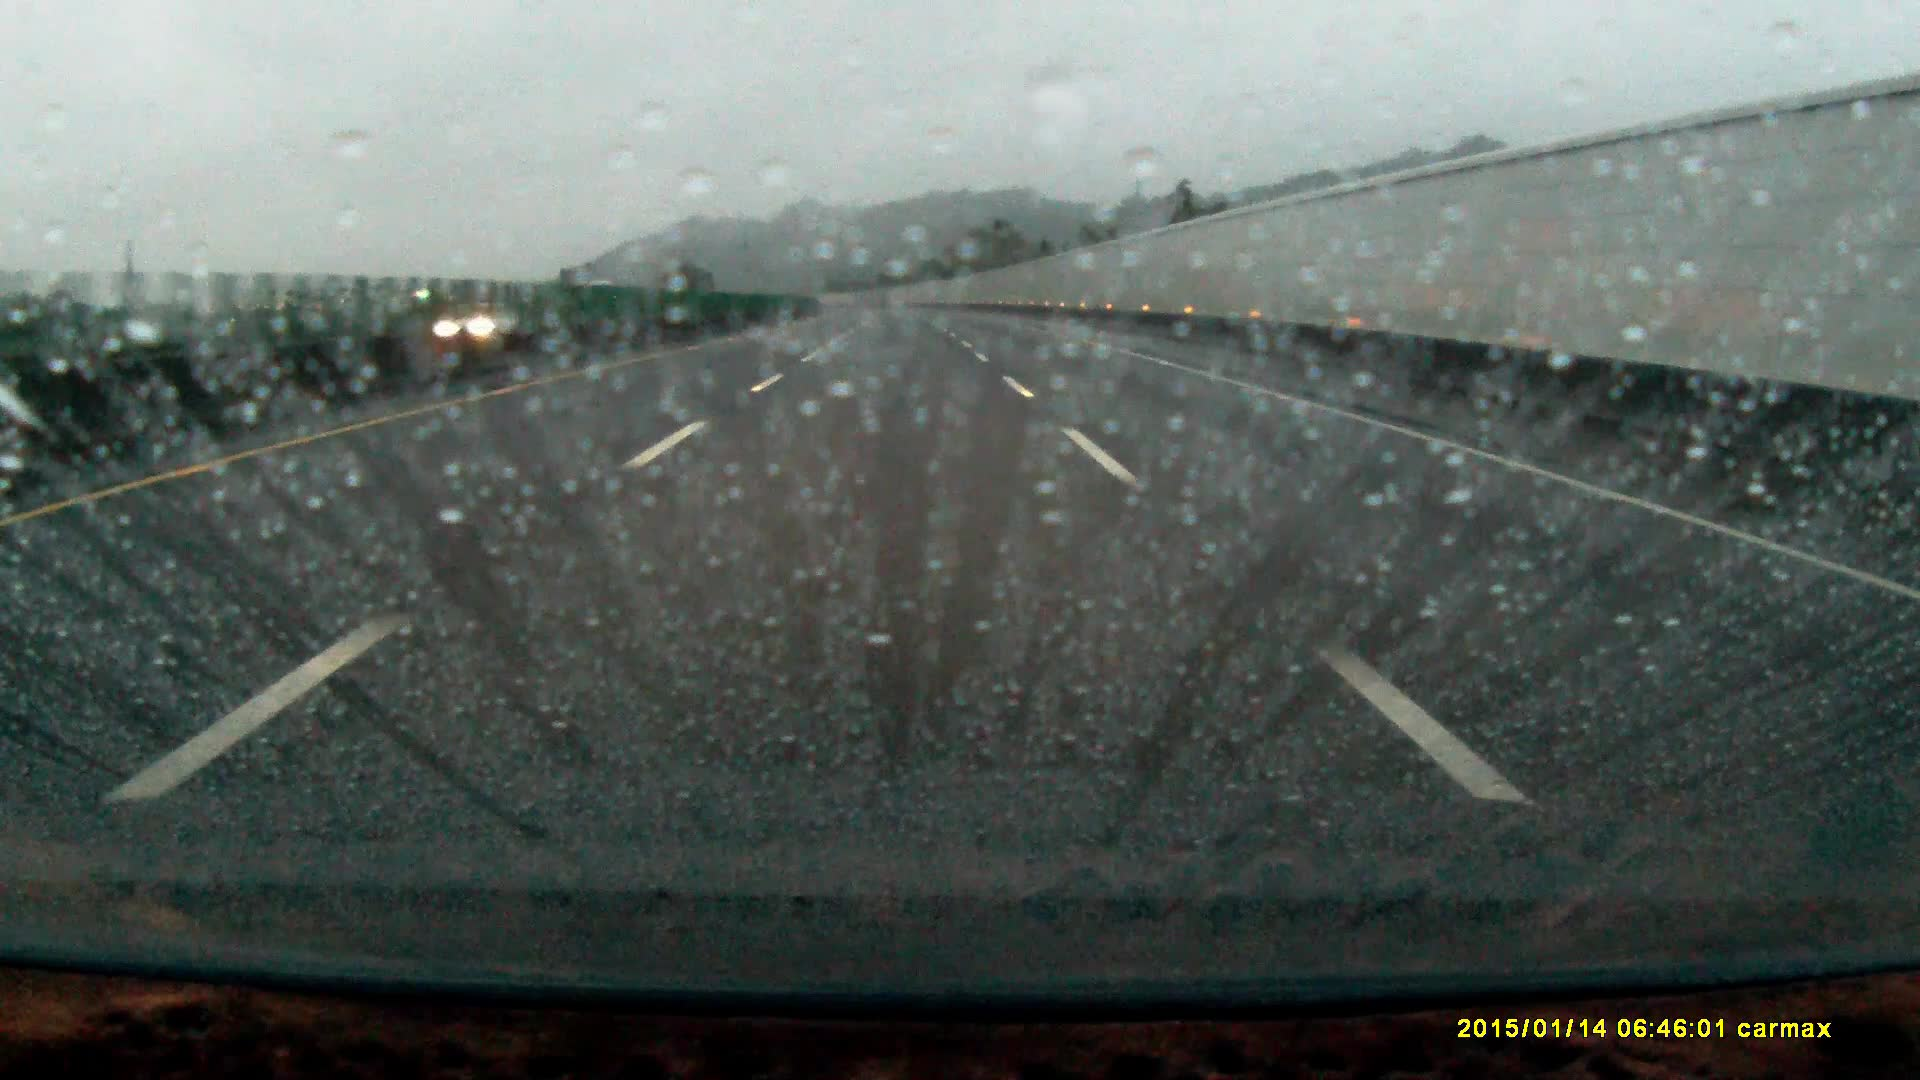vehicle: (414, 297, 502, 343)
